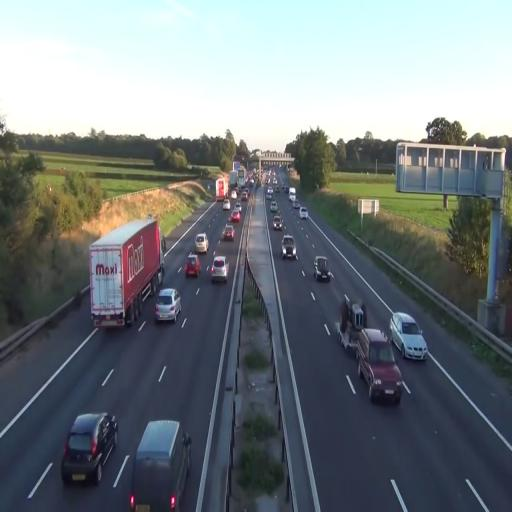vehicle: (89, 216, 163, 329), (130, 418, 192, 511), (61, 411, 119, 486), (356, 326, 404, 404), (356, 326, 403, 404), (390, 310, 428, 363), (155, 287, 181, 322), (210, 255, 230, 282), (314, 256, 330, 282), (281, 234, 297, 259), (184, 254, 200, 278), (220, 224, 236, 244), (194, 233, 209, 254), (272, 214, 284, 232), (232, 206, 242, 223), (298, 206, 308, 219)
